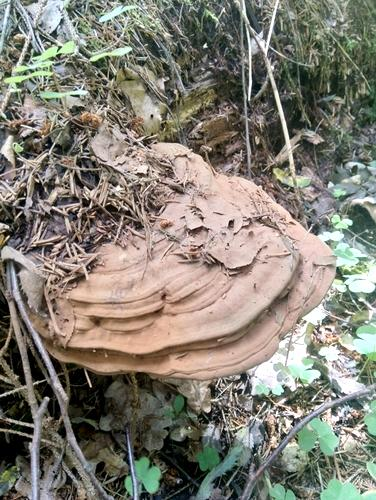Ganoderma - Fruit Body: (0, 138, 339, 381)
